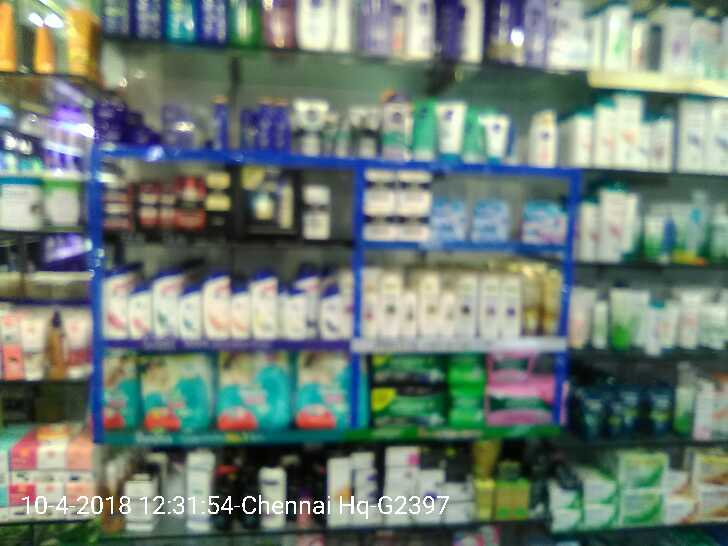venus: (521, 200, 566, 245), (471, 198, 513, 243), (429, 199, 465, 243)
